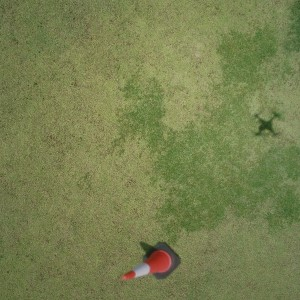traffic cone: (122, 242, 180, 281)
